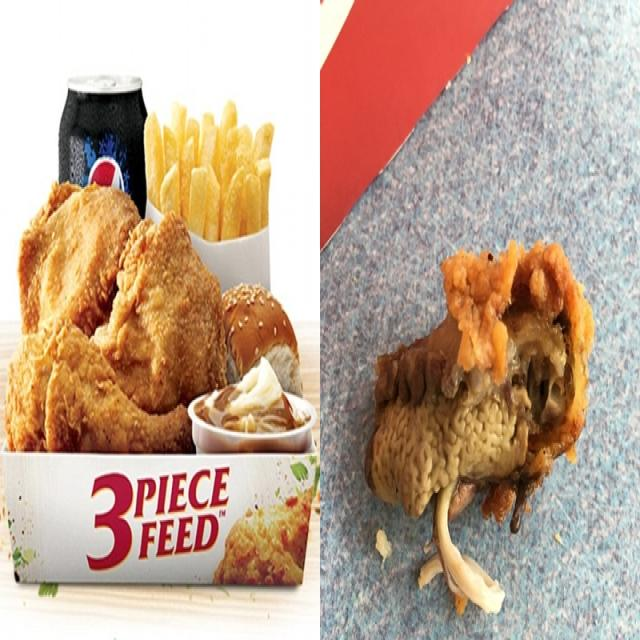Frango: (7, 317, 192, 453), (111, 206, 224, 410), (16, 176, 139, 339)
